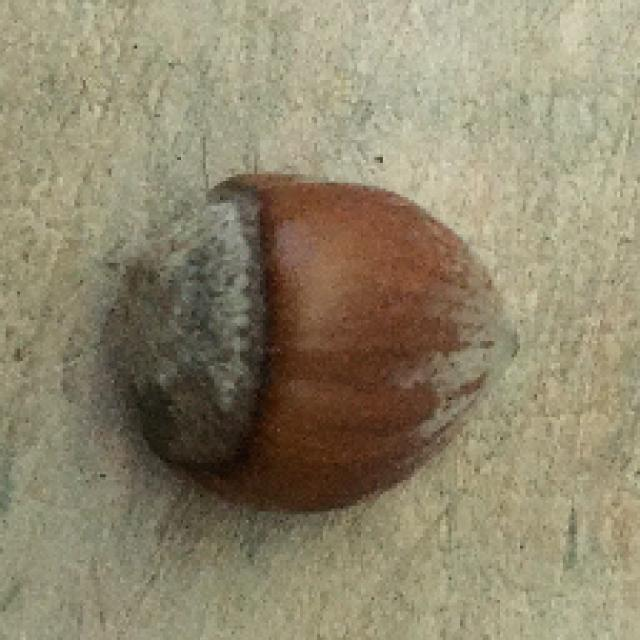QualityHazelnut: (101, 176, 526, 517)
